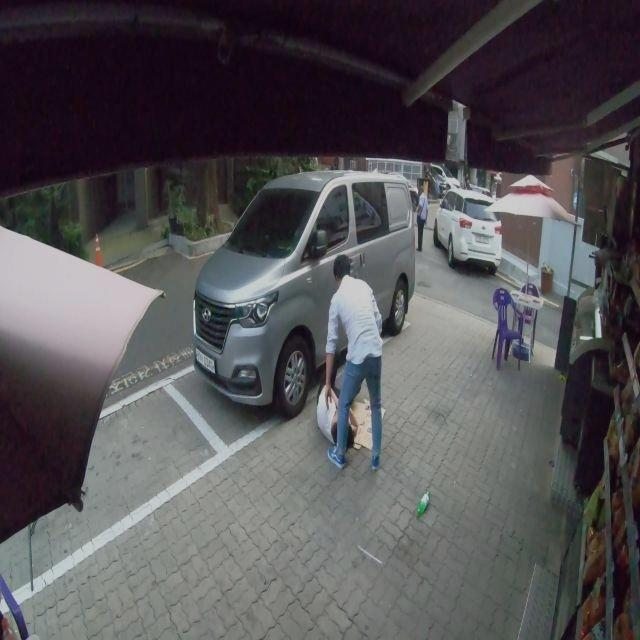fight: (322, 250, 387, 474)
